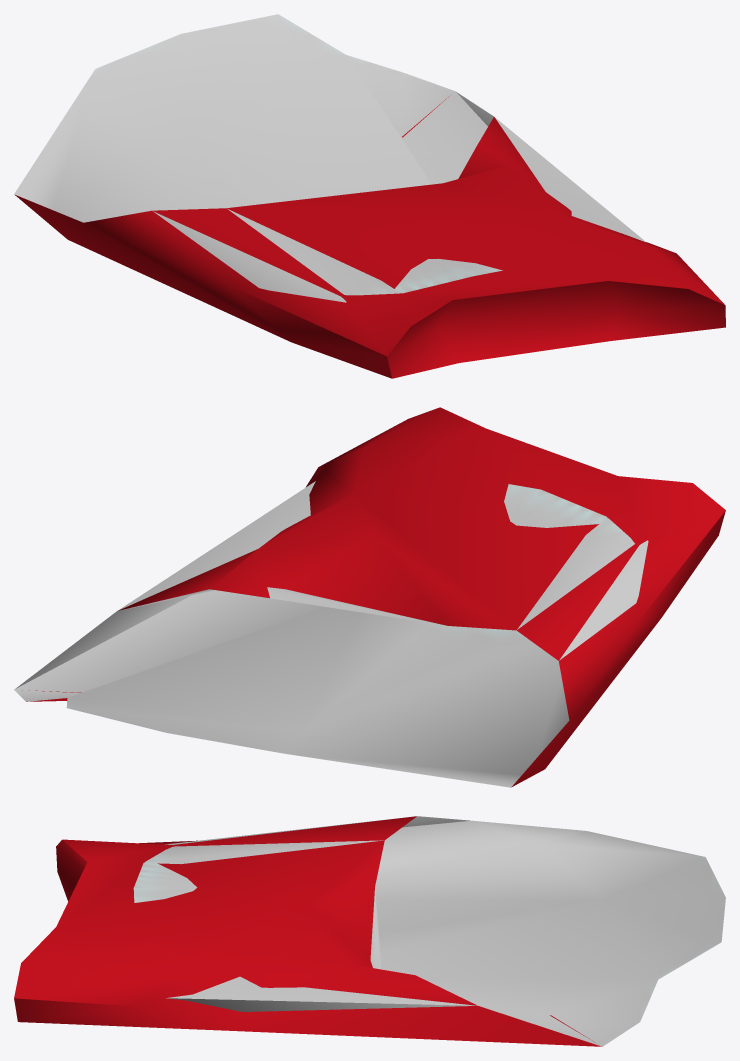
Rendered from FrenchFries Packet.fbx.
3 views of the same model, one above another, from view 1: azimuth 30°, elevation 25°; view 2: azimuth 150°, elevation 25°; view 3: azimuth 270°, elevation 25° (orthographic). The views are drawn at different scales.
Visible parts, largest first — view 1: FrenchFries.001; view 2: FrenchFries.001; view 3: FrenchFries.001.
Boxes of the visible parts, bbox=[...] form: FrenchFries.001: bbox=[14, 14, 725, 378]; FrenchFries.001: bbox=[14, 407, 725, 787]; FrenchFries.001: bbox=[14, 816, 725, 1046].
Bounding box in the file's own units: 0.1371 × 0.0257 × 0.2024.
